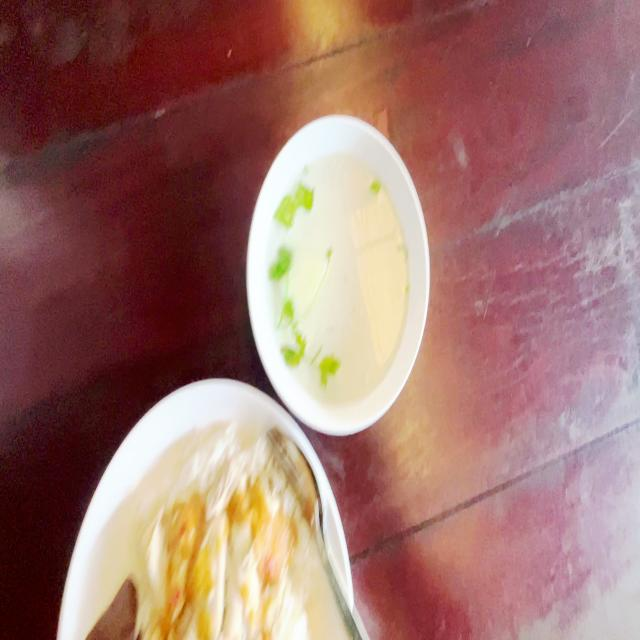boiled_chicken: (143, 488, 293, 634)
boiled_chicken_blood_jelly: (92, 572, 133, 640)
chicken_rice: (92, 424, 308, 640)
